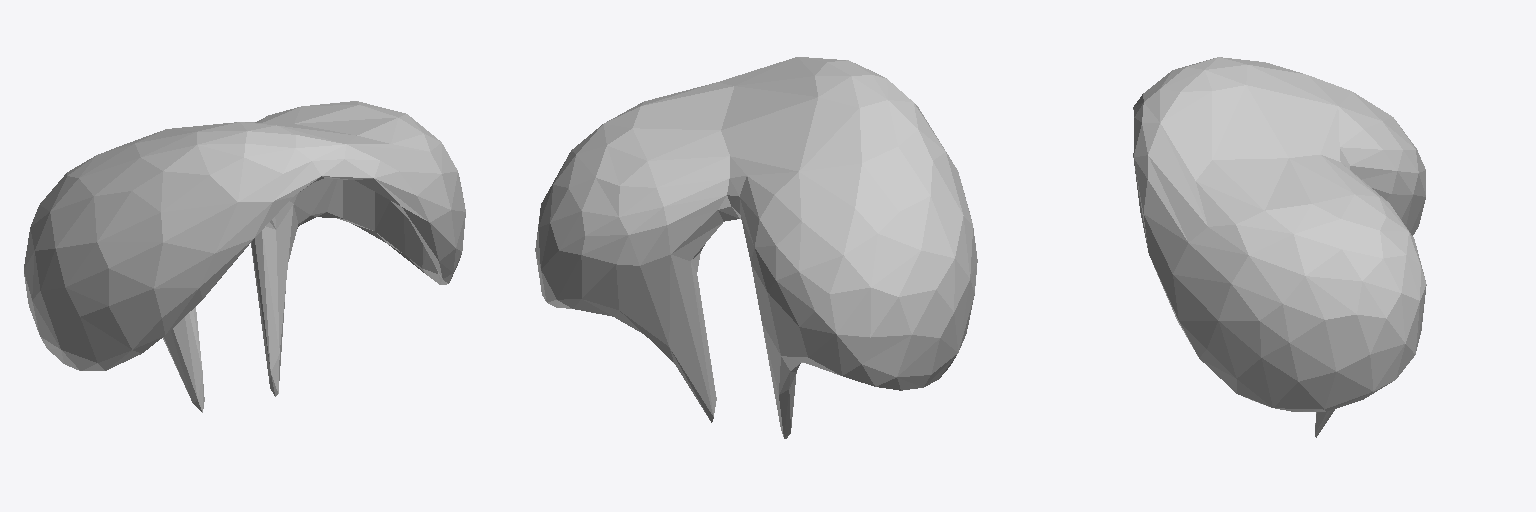
Rendered from organs_diaphragm_collision.obj.
3 views of the same model, side by side, from view 1: azimuth 30°, elevation 25°; view 2: azimuth 150°, elevation 25°; view 3: azimuth 270°, elevation 25° (orthographic).
Visible parts, largest first — view 1: Diaphragm_polySurface1.005; view 2: Diaphragm_polySurface1.005; view 3: Diaphragm_polySurface1.005.
Part boxes in pixels (x1,y1,x2,y2): Diaphragm_polySurface1.005: (24, 101, 465, 412); Diaphragm_polySurface1.005: (535, 57, 977, 438); Diaphragm_polySurface1.005: (1133, 57, 1426, 437).
Bounding box in the file's own units: 22.4 × 17.43 × 14.17.